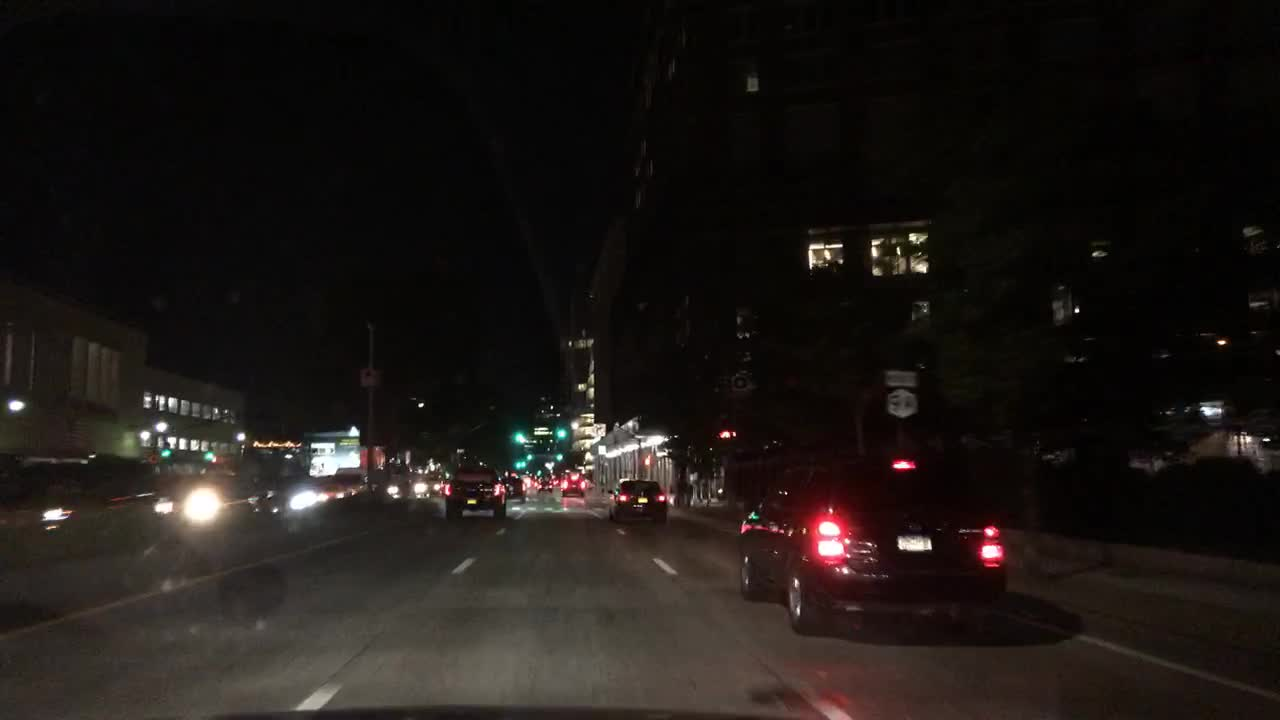car: (739, 450, 1006, 635), (2, 454, 158, 537), (154, 466, 277, 535), (444, 466, 506, 515), (610, 479, 668, 524), (289, 476, 345, 509), (333, 462, 380, 495), (379, 474, 430, 504), (500, 476, 529, 505), (887, 389, 917, 417), (557, 472, 586, 495), (426, 470, 446, 494), (535, 479, 554, 494), (524, 477, 535, 489)
traffic light: (160, 448, 172, 458), (514, 433, 525, 443), (203, 451, 214, 461), (644, 453, 653, 465), (556, 428, 565, 439)
traffic sign: (884, 368, 917, 386)
